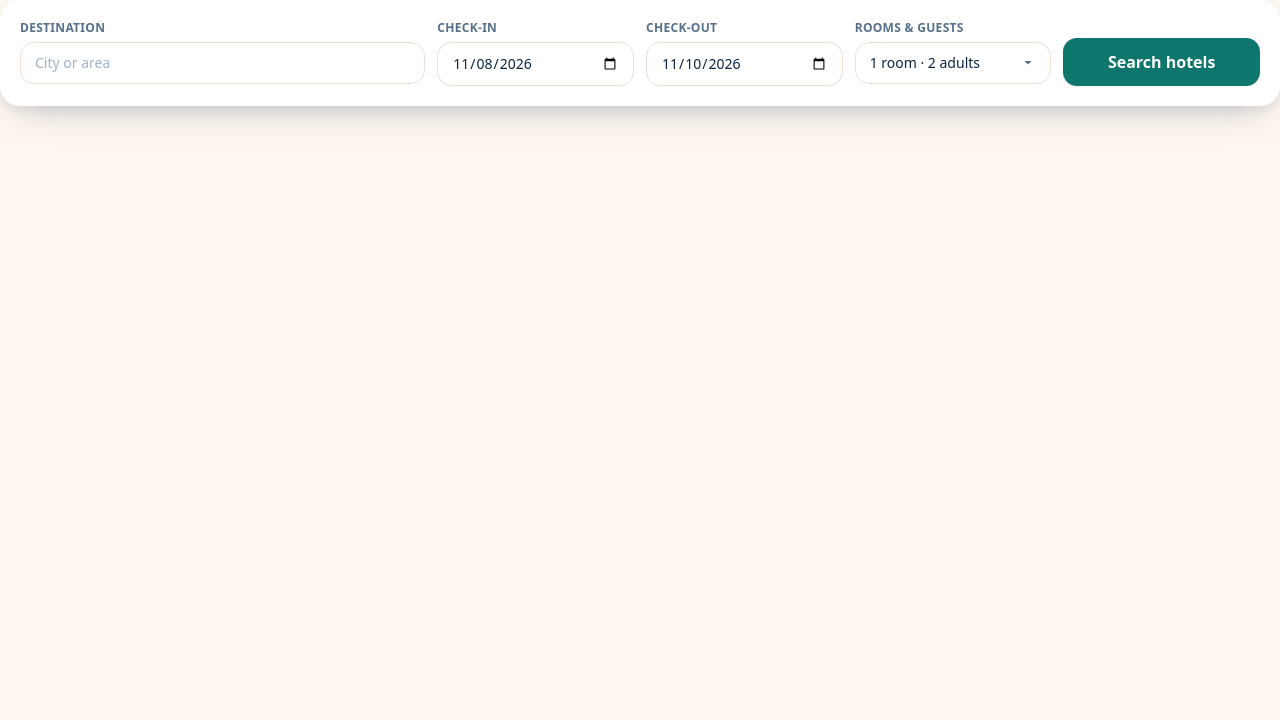
Test: OccupancyPicker › will not drop below one room or one adult
Click the button with test id "occupancy-trigger" at (953, 63), box [855,42,1051,84]
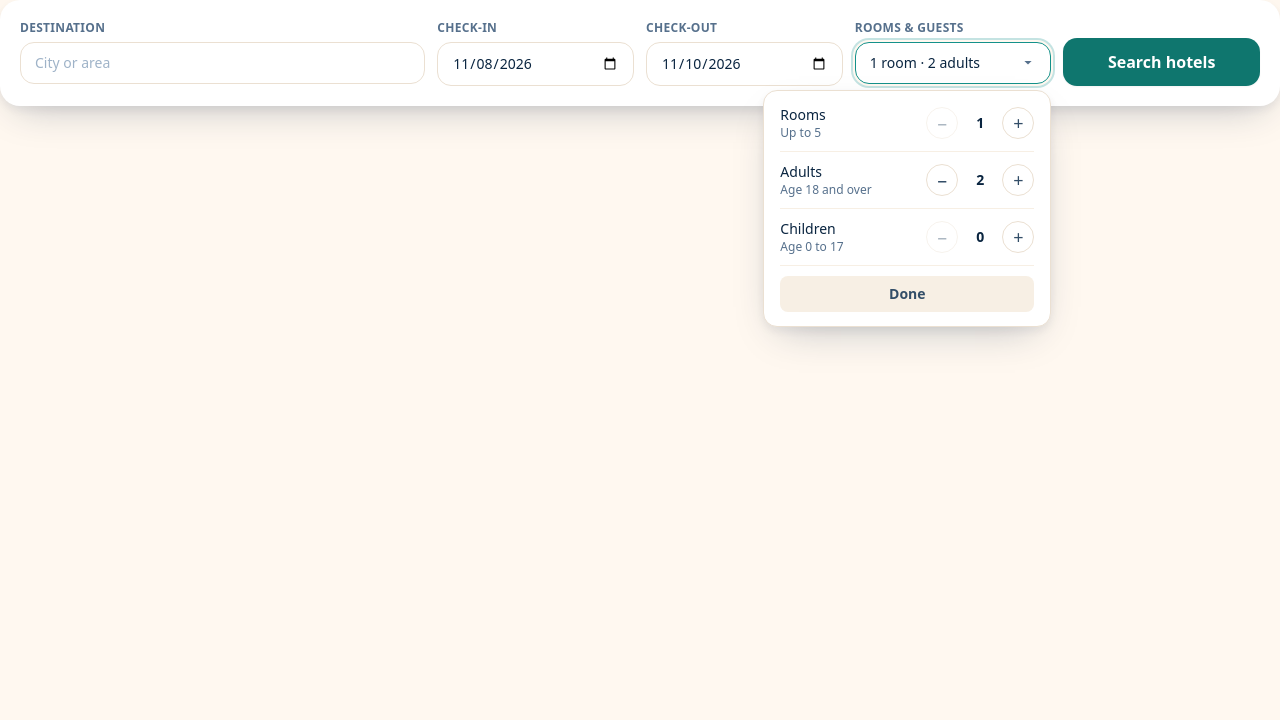
Result: the button named "Decrease Rooms" is disabled at [926,107,958,139]
Click the button named "Decrease Adults" at (942, 180), box [926,164,958,196]
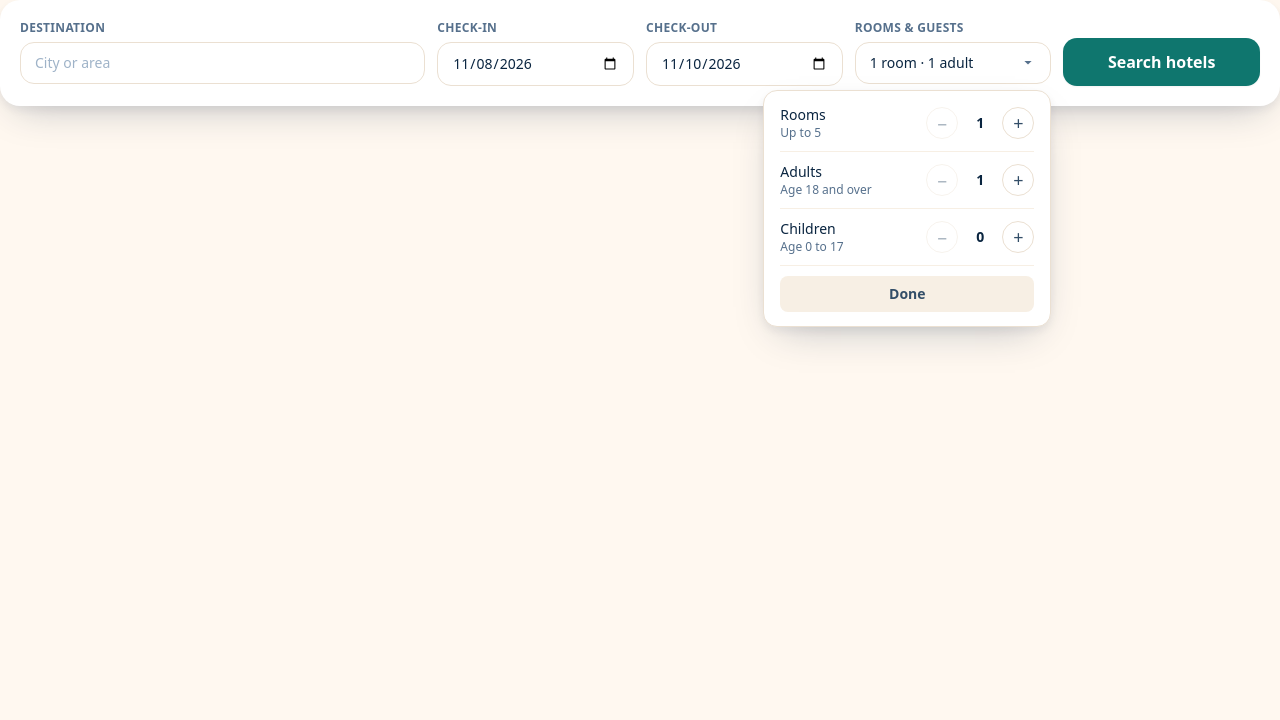
Result: the text with test id "occupancy-adults" reads "1" at [976,170,984,189]
